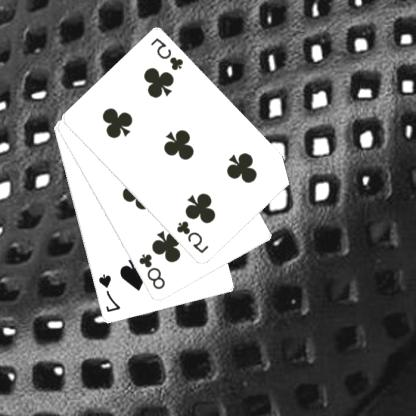5C: (175, 218, 212, 256), (150, 35, 186, 72)
7S: (98, 272, 124, 314)
8C: (138, 251, 168, 292)
